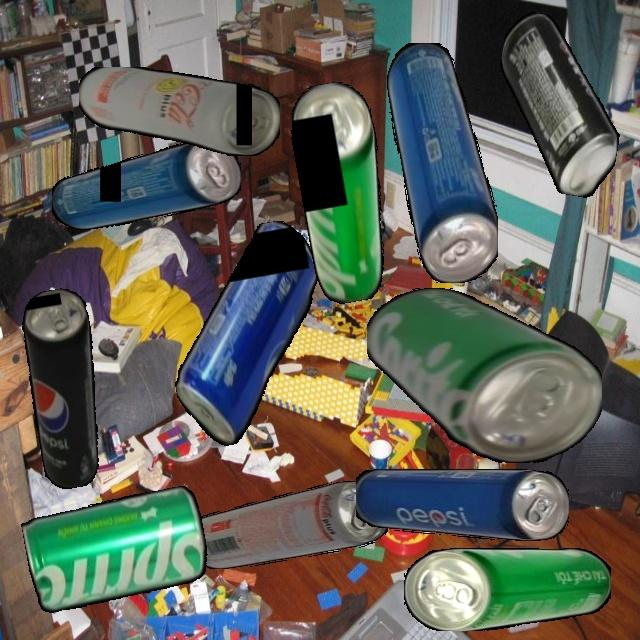debris: (151, 216, 344, 452), (366, 288, 602, 463), (480, 9, 638, 201), (284, 77, 403, 307), (386, 42, 498, 283), (20, 484, 213, 615), (14, 285, 117, 492), (176, 480, 389, 569), (78, 67, 280, 156), (404, 547, 611, 631), (51, 141, 241, 230), (355, 469, 569, 541)
